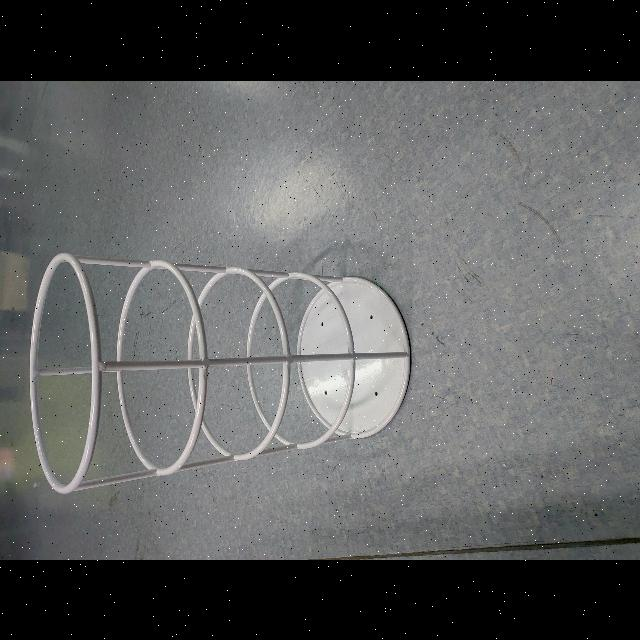S: (23, 245, 417, 497)
